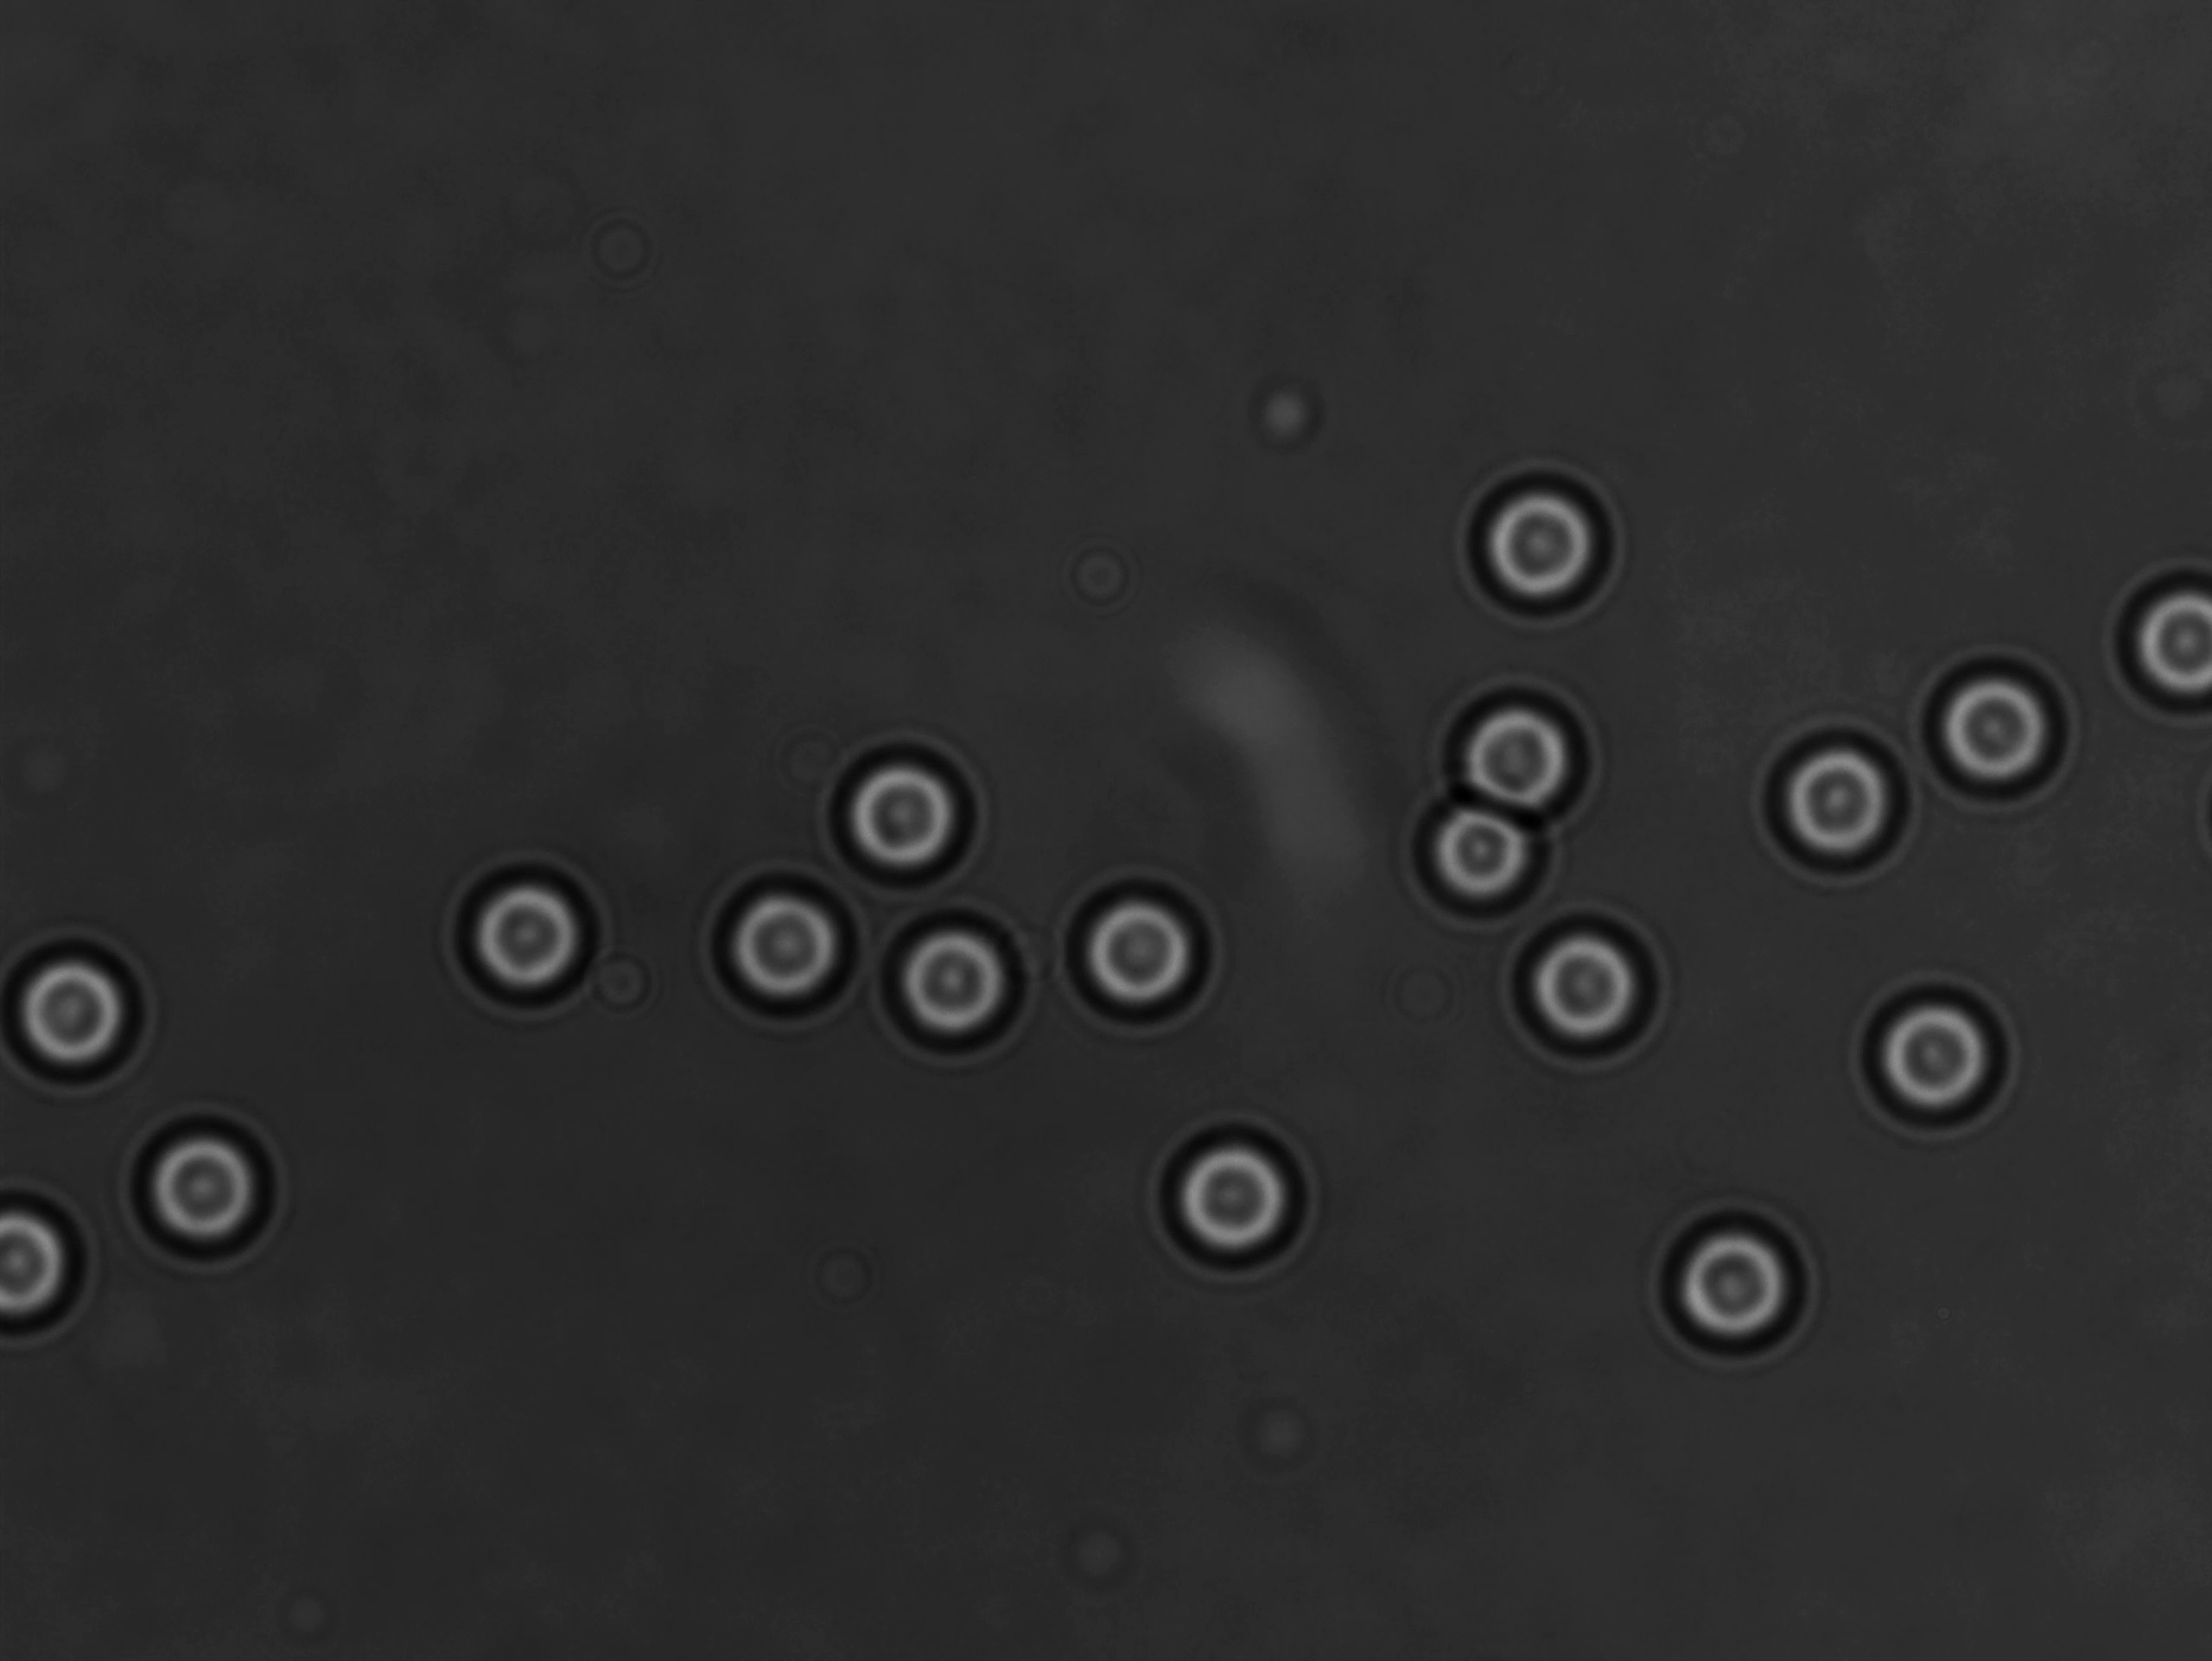depth:20: (1457, 454, 1638, 632), (1915, 653, 2106, 813), (876, 892, 1048, 1068), (1504, 886, 1671, 1068), (1851, 974, 2022, 1150), (1052, 860, 1219, 1033), (122, 1104, 286, 1272), (707, 865, 870, 1031), (443, 855, 626, 1003), (1757, 712, 1919, 878), (1392, 771, 1567, 923), (1649, 1202, 1814, 1361), (1150, 1122, 1314, 1277), (827, 740, 984, 899), (1434, 680, 1589, 834), (2111, 553, 2212, 726)
